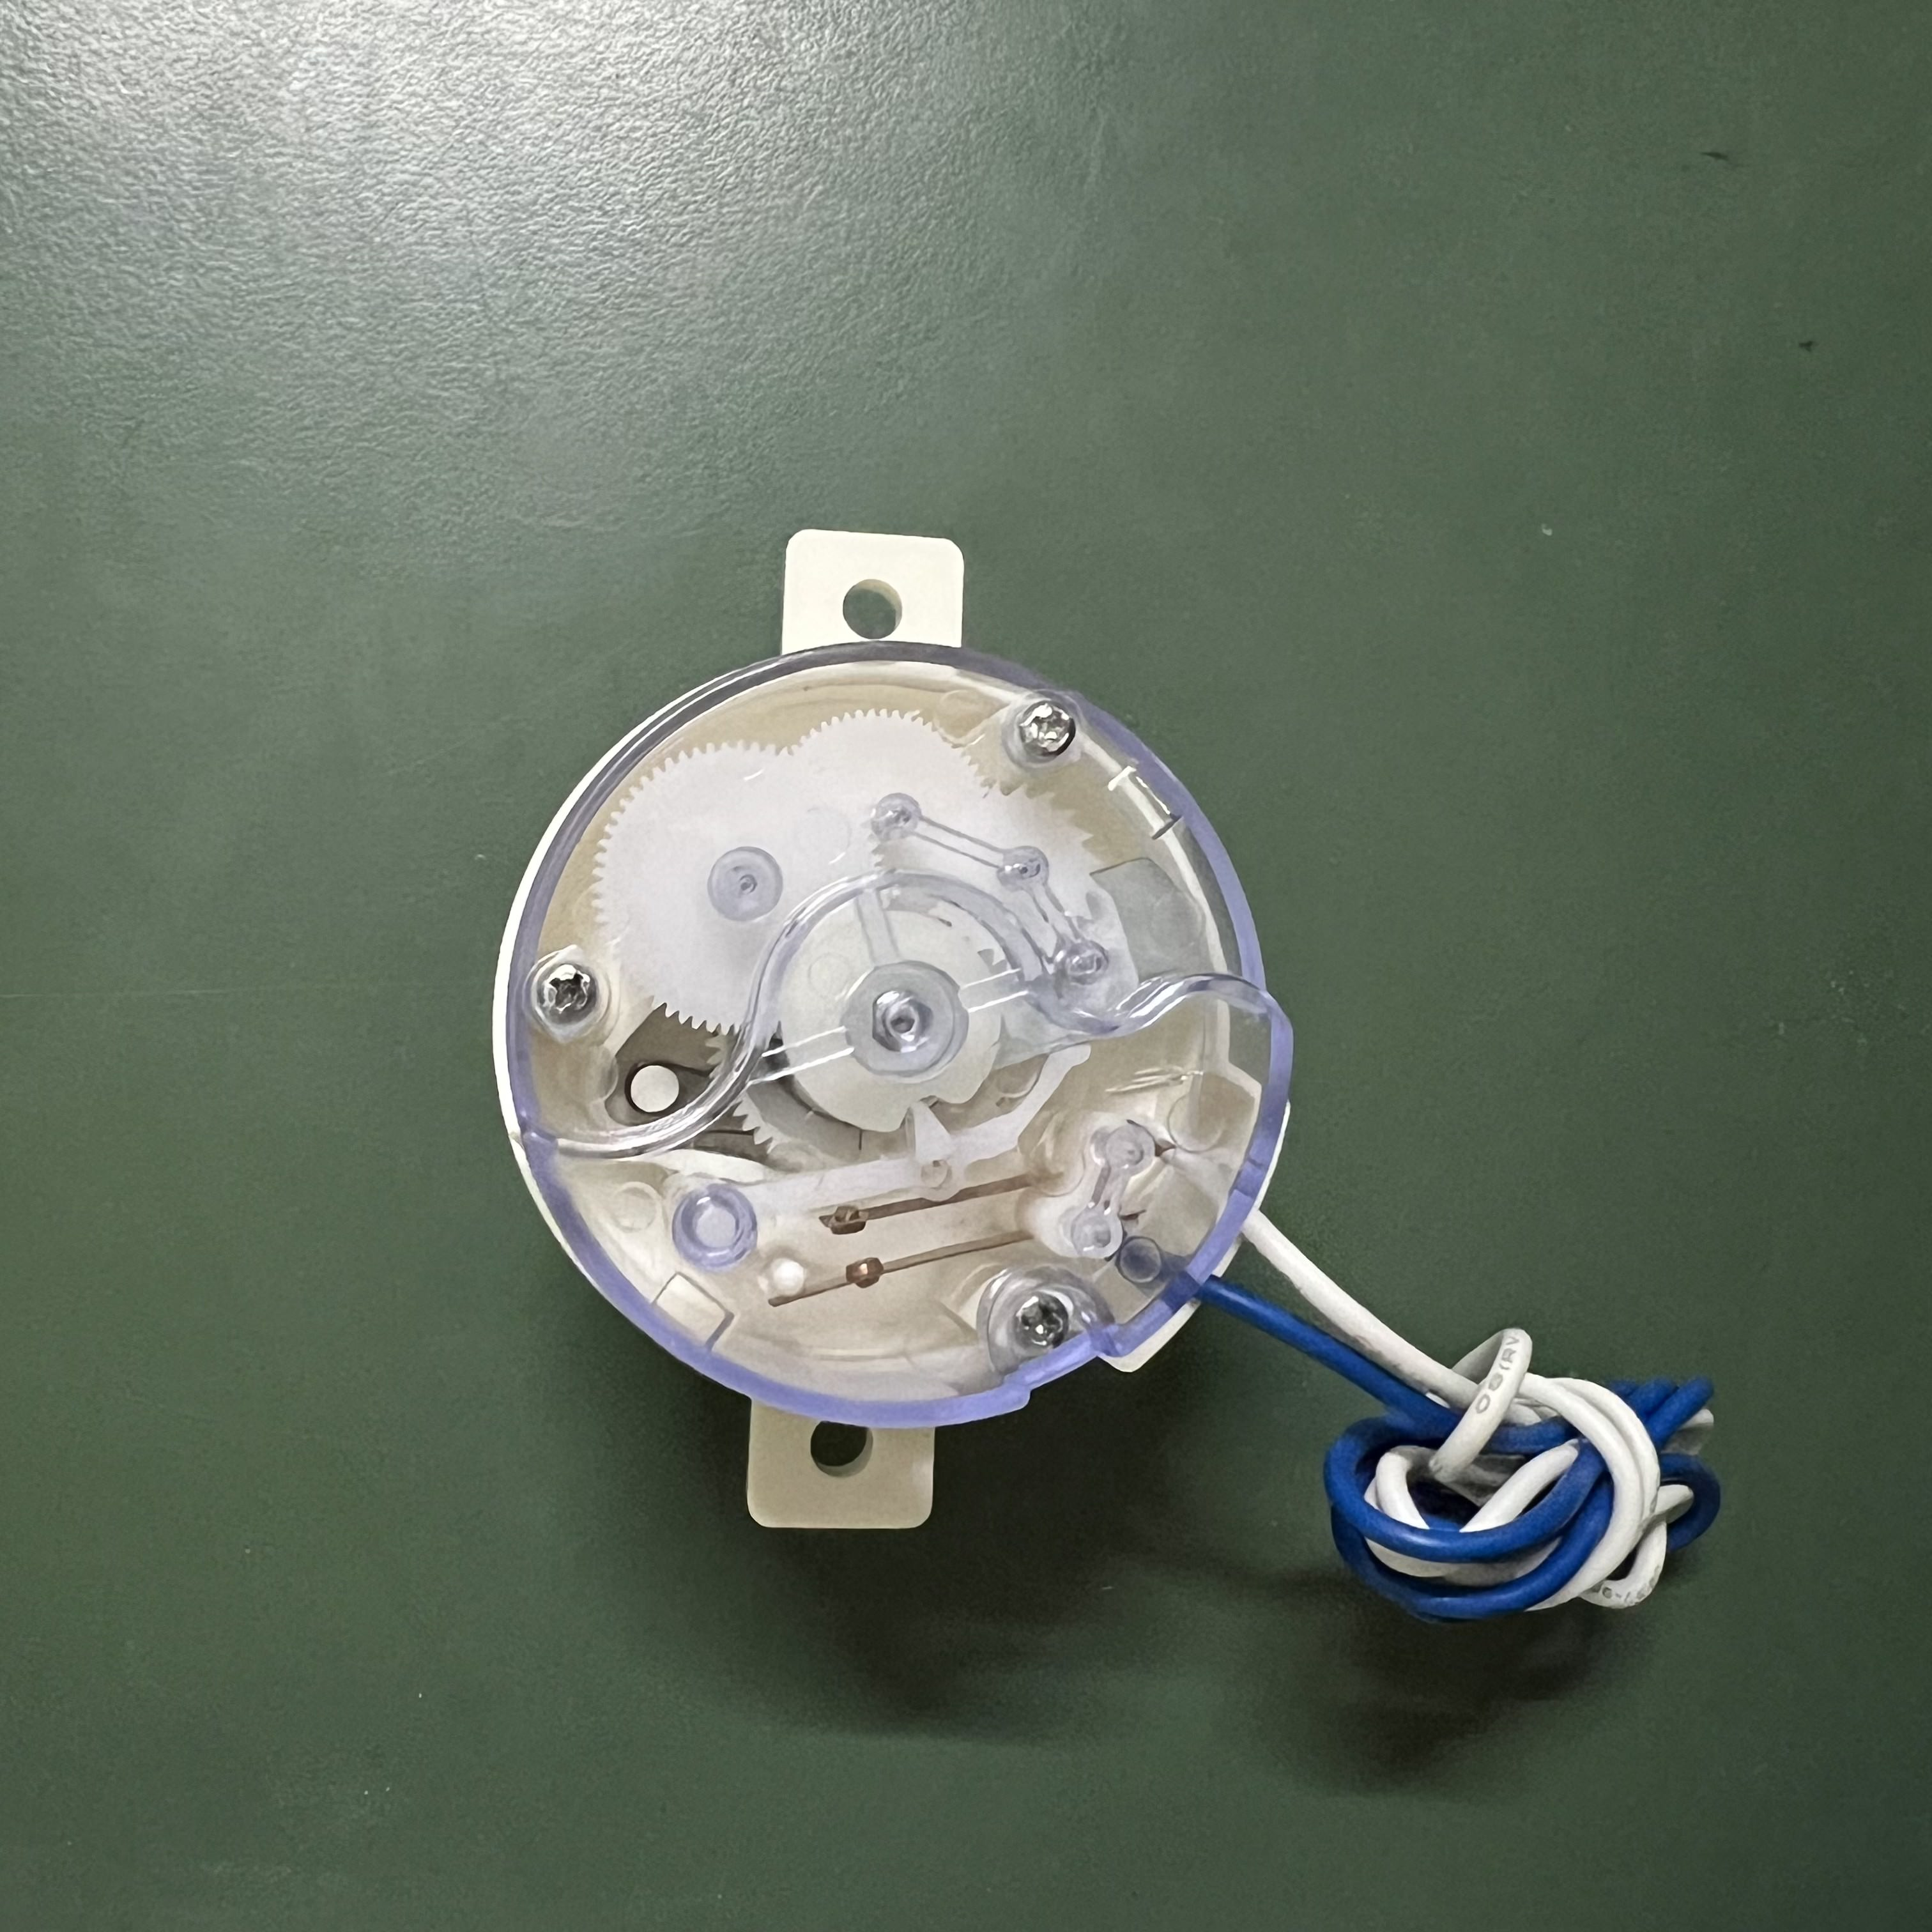circle_timer: (462, 525, 1734, 1631)
